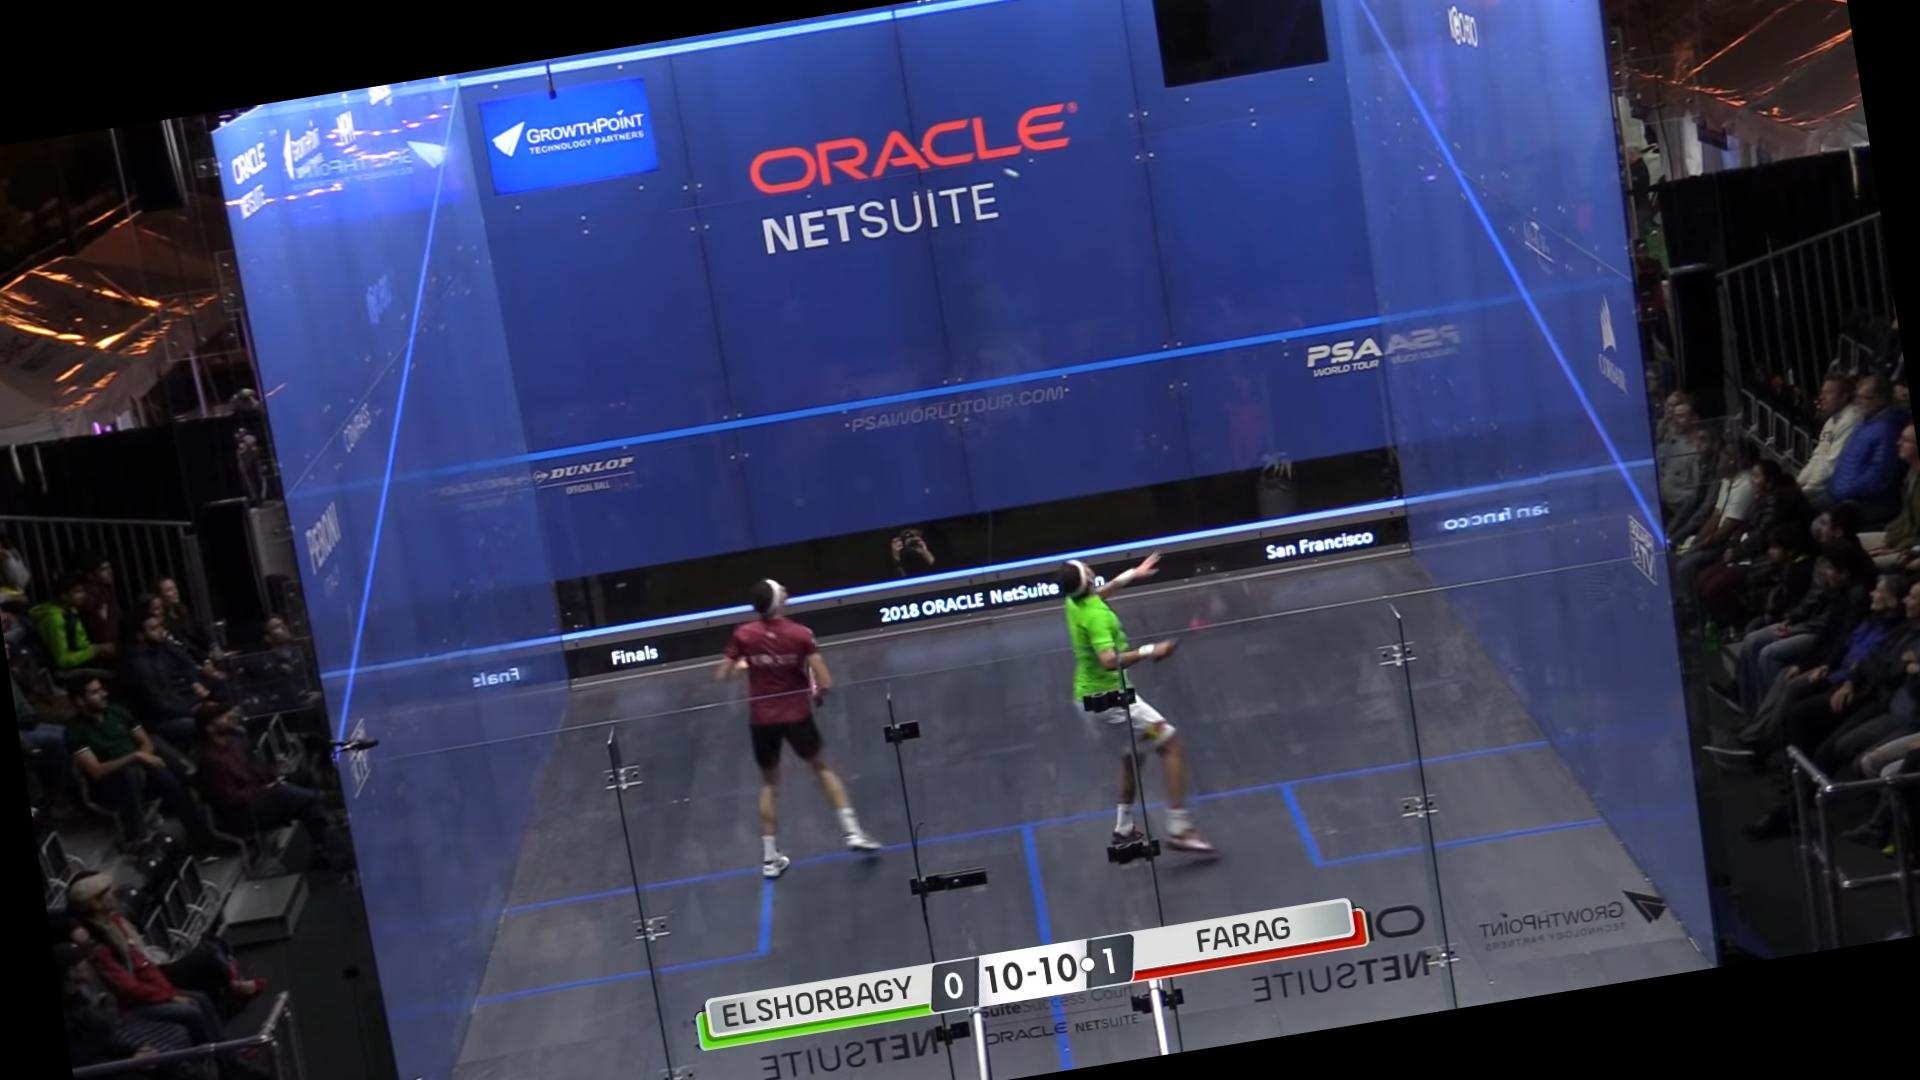Squash-Ball: (1005, 157, 1022, 182)
